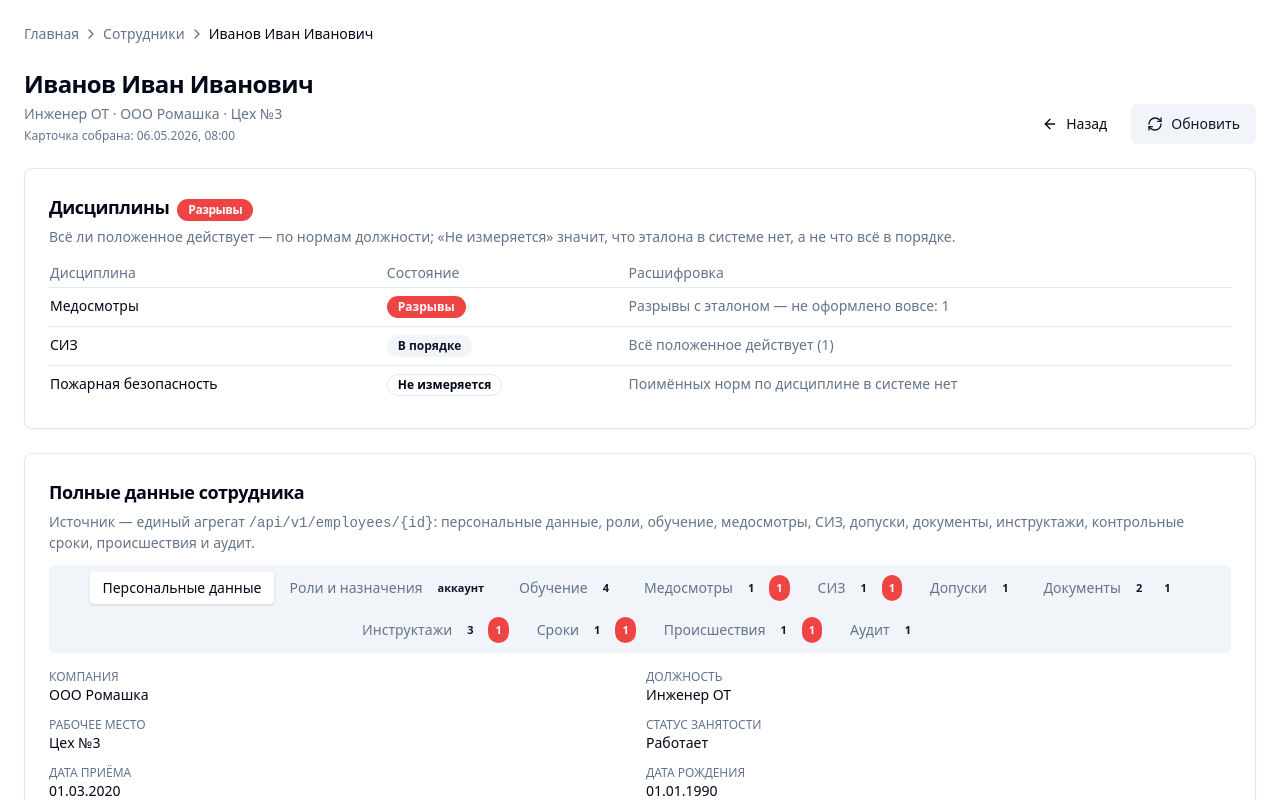
Test case: EmployeeCardPage › opens the Briefings tab and shows expired badge
This screenshot has width=1280, height=800.
Expected: the heading "Иванов Иван Иванович" is shown, [24,68,313,100]
Click the tab "Инструктажи 3 1": point(435, 630) [350,611,521,649]
(page scrolled)
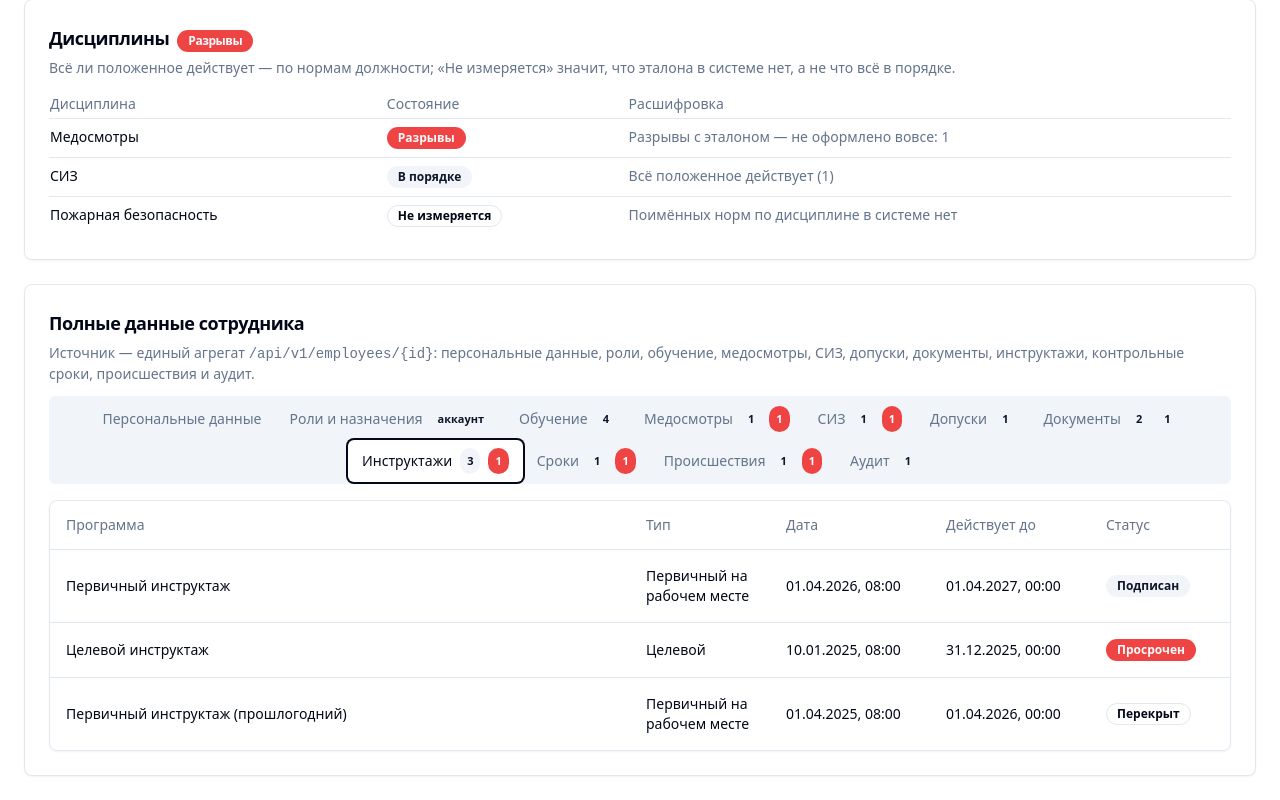
Expected: the text "Целевой инструктаж" is shown, [66,640,209,658]
Expected: the text "Просрочен" is shown, [1106,638,1196,660]
